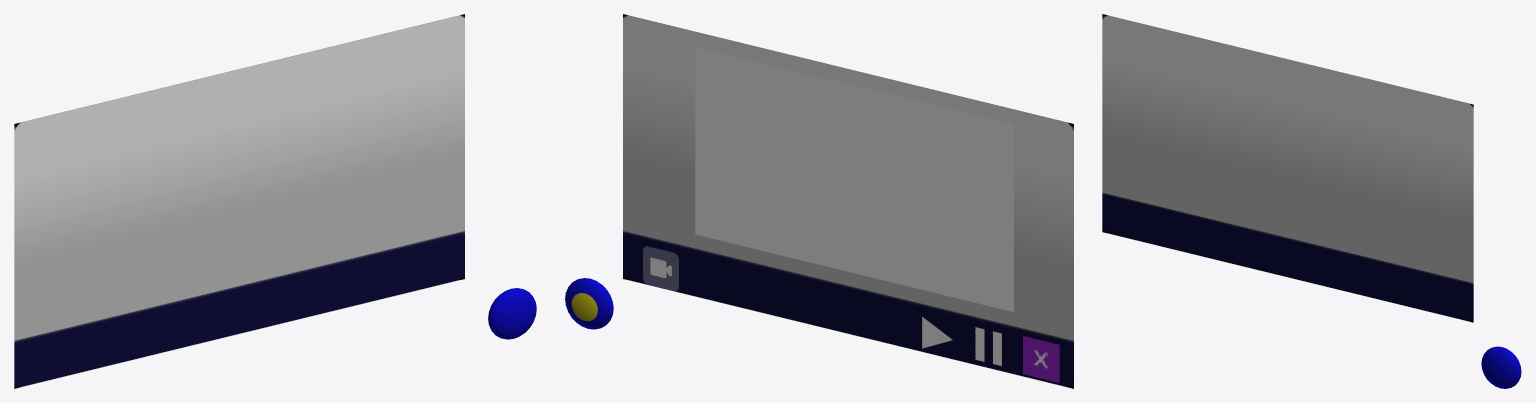
The picture shows the model from 3 angles, left to right: view 1: azimuth 30°, elevation 25°; view 2: azimuth 150°, elevation 25°; view 3: azimuth 330°, elevation 25°; orthographic projection. The views are drawn at different scales.
Visible parts, largest first — view 1: Canvas_Mesh.001, Hotspot_VR-V360-I360_3D_Mesh.001; view 2: VideoHolder_Mesh.001, Canvas_Mesh.001, Hotspot_VR-V360-I360_3D_Mesh.001, Close_Mesh.001, BotonVideo3D_Mesh.001, Pause_Mesh.001, Play_Mesh.001; view 3: Canvas_Mesh.001, Hotspot_VR-V360-I360_3D_Mesh.001.
Part boxes in pixels (x1,y1,x2,y2): Canvas_Mesh.001: (14,14,464,388); Hotspot_VR-V360-I360_3D_Mesh.001: (488,288,536,339); VideoHolder_Mesh.001: (695,47,1013,311); Canvas_Mesh.001: (623,14,1073,388); Hotspot_VR-V360-I360_3D_Mesh.001: (565,278,613,329); Close_Mesh.001: (1023,336,1059,382); BotonVideo3D_Mesh.001: (643,246,678,291); Pause_Mesh.001: (975,326,1002,366); Play_Mesh.001: (921,316,953,348); Canvas_Mesh.001: (1102,14,1473,322); Hotspot_VR-V360-I360_3D_Mesh.001: (1481,346,1521,388).
Size of the model in its own units: 0.4428 by 0.2707 by 0.0258.
